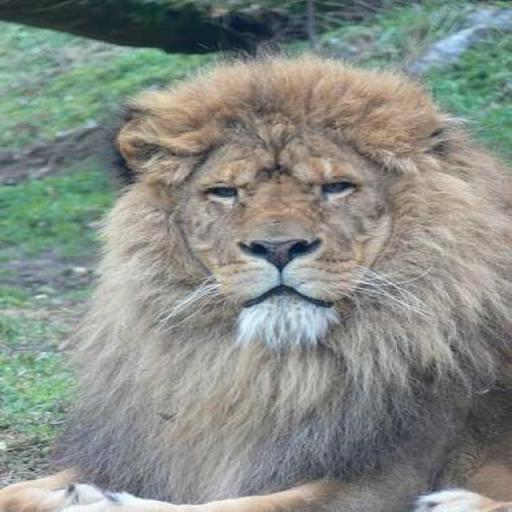Lion: (0, 43, 510, 510)
